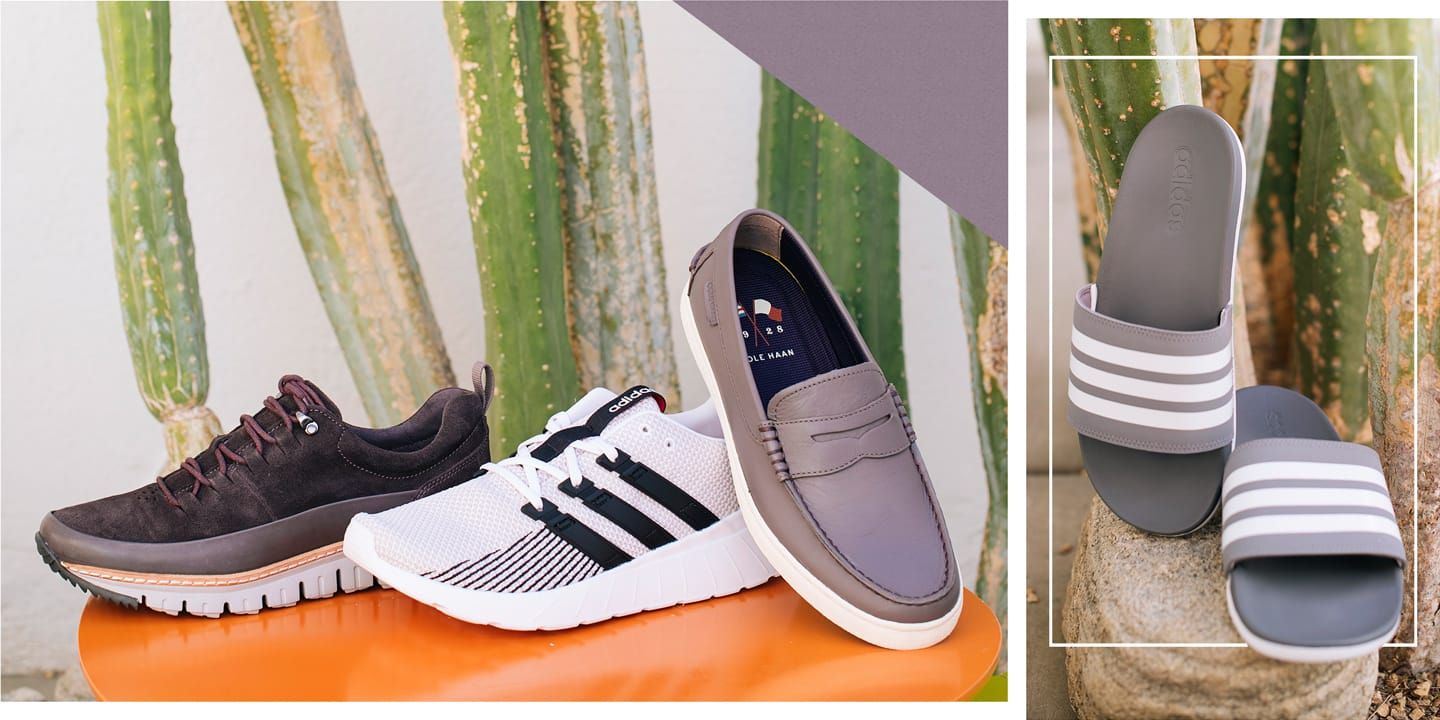shoe: (678, 200, 969, 655), (26, 360, 514, 615), (317, 388, 816, 637)
